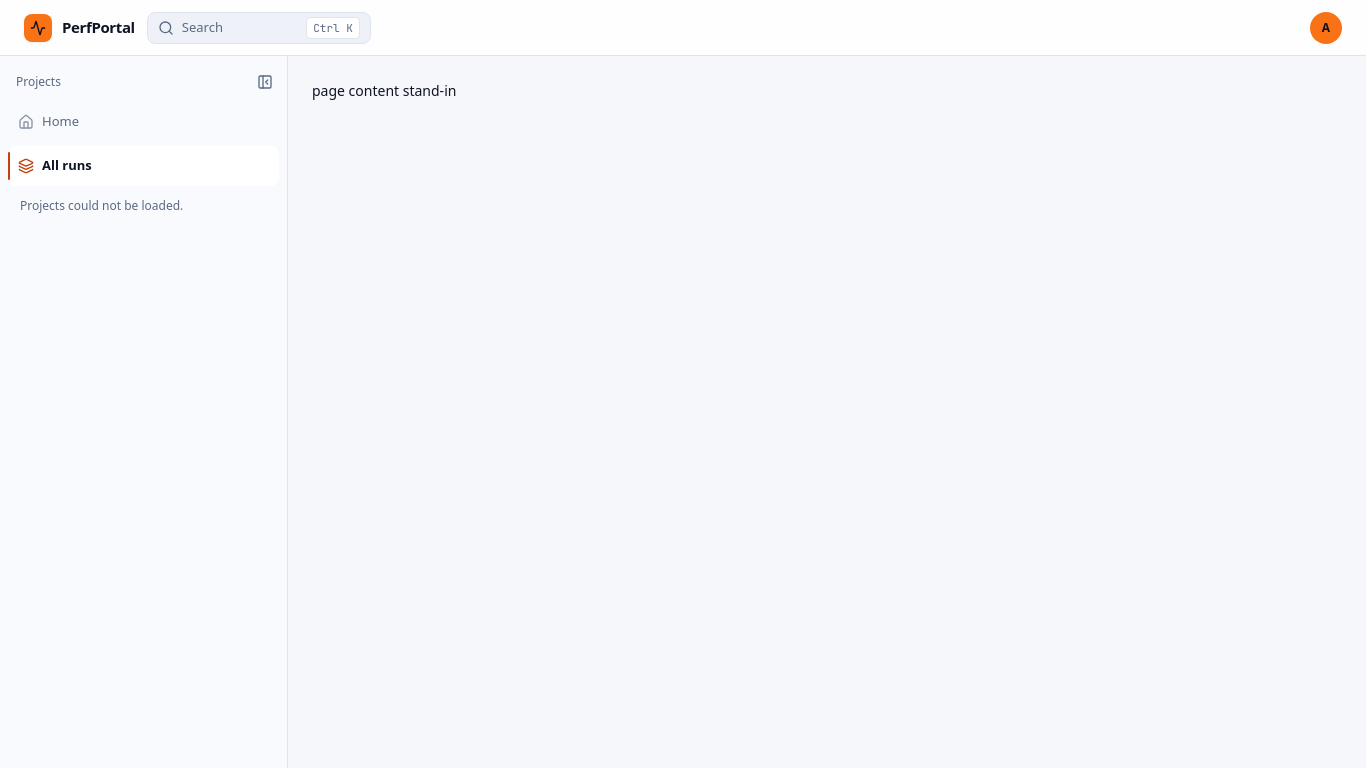
Test case: AppShell — the account menu’s Administration item › offers Administration to an admin
Step 1. Click the button with test id "account-menu-trigger" → x=1326, y=28, box top-left (1310, 12), bottom-right (1342, 44)
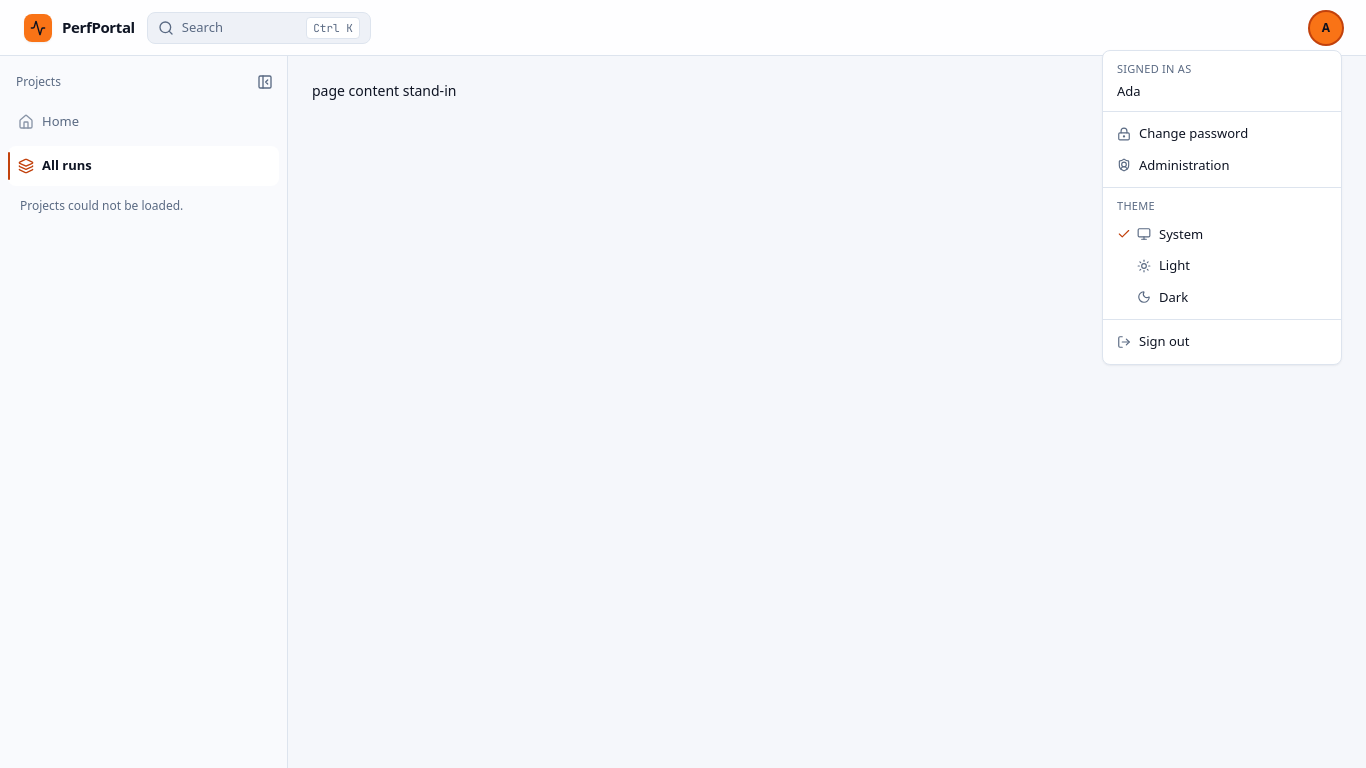
Expected: the menu item "Change password" is shown, top-left (1117, 124), bottom-right (1248, 142)
